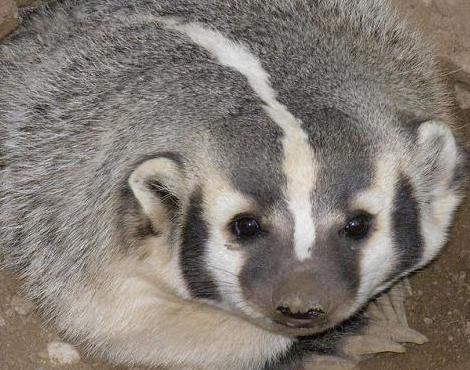badger: (7, 9, 461, 366)
